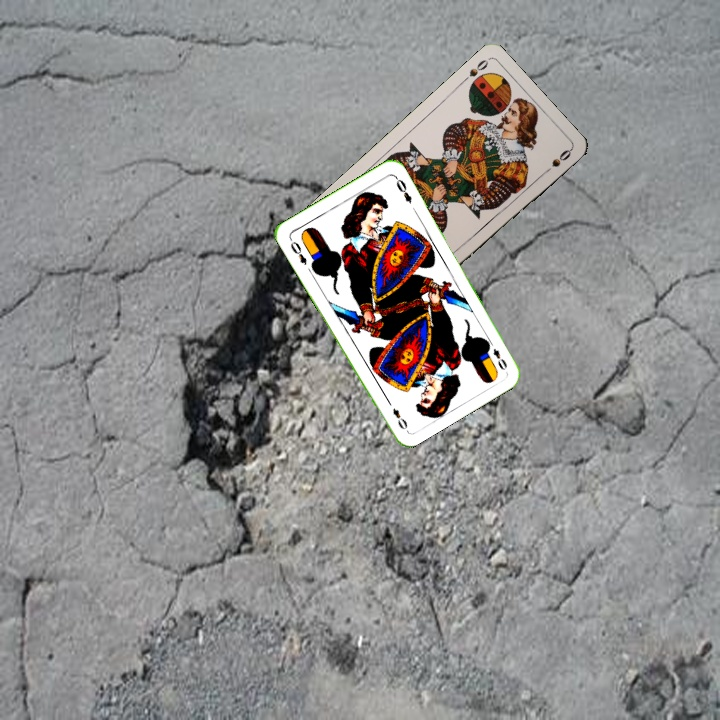EO: (483, 336, 510, 373), (286, 235, 310, 268)
SO: (458, 55, 491, 86)
